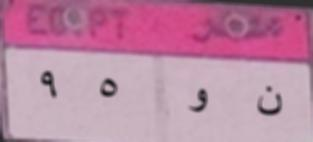5: (95, 72, 122, 104)
9: (37, 68, 60, 106)
noon: (248, 76, 286, 122)
waw: (188, 86, 213, 119)
